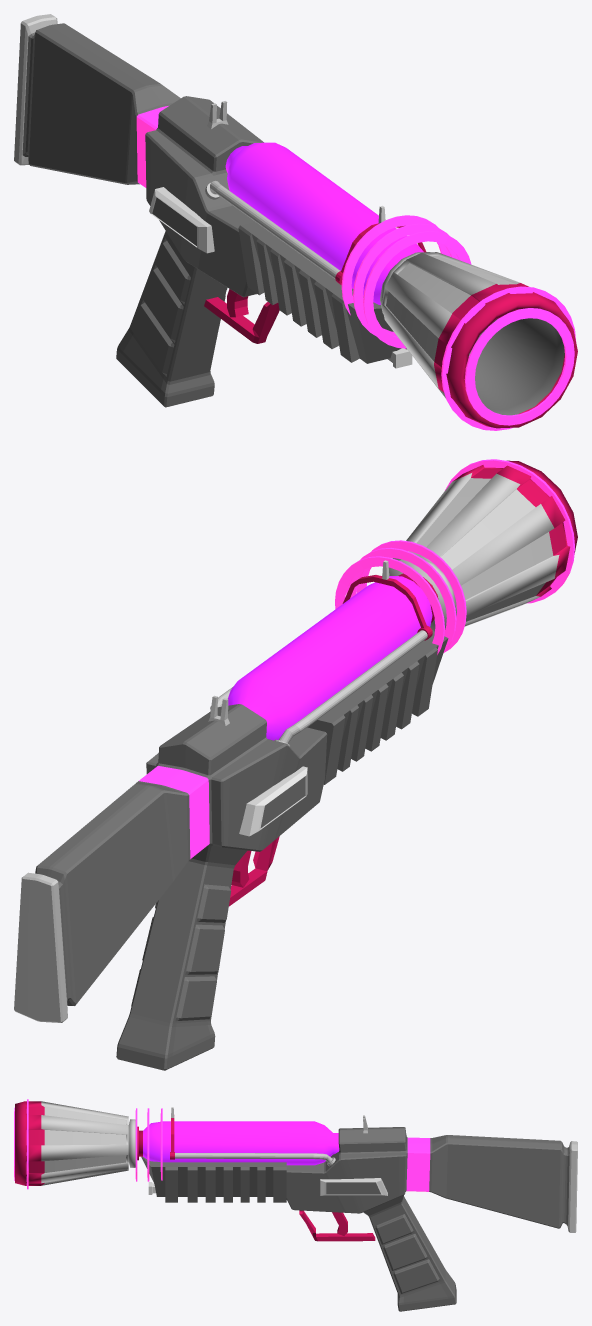
File: portalgun_red.fbx
3 views of the same model, one above another, from view 1: azimuth 30°, elevation 25°; view 2: azimuth 150°, elevation 25°; view 3: azimuth 270°, elevation 25° (orthographic). The views are drawn at different scales.
Visible parts, largest first — view 1: Icosphere; view 2: Icosphere; view 3: Icosphere.
Part boxes in pixels (x1,y1,x2,y2): Icosphere: (14,14,577,430); Icosphere: (14,459,577,1070); Icosphere: (14,1099,577,1311).
Size of the model in its own units: 16.05 by 39.7 by 100.
